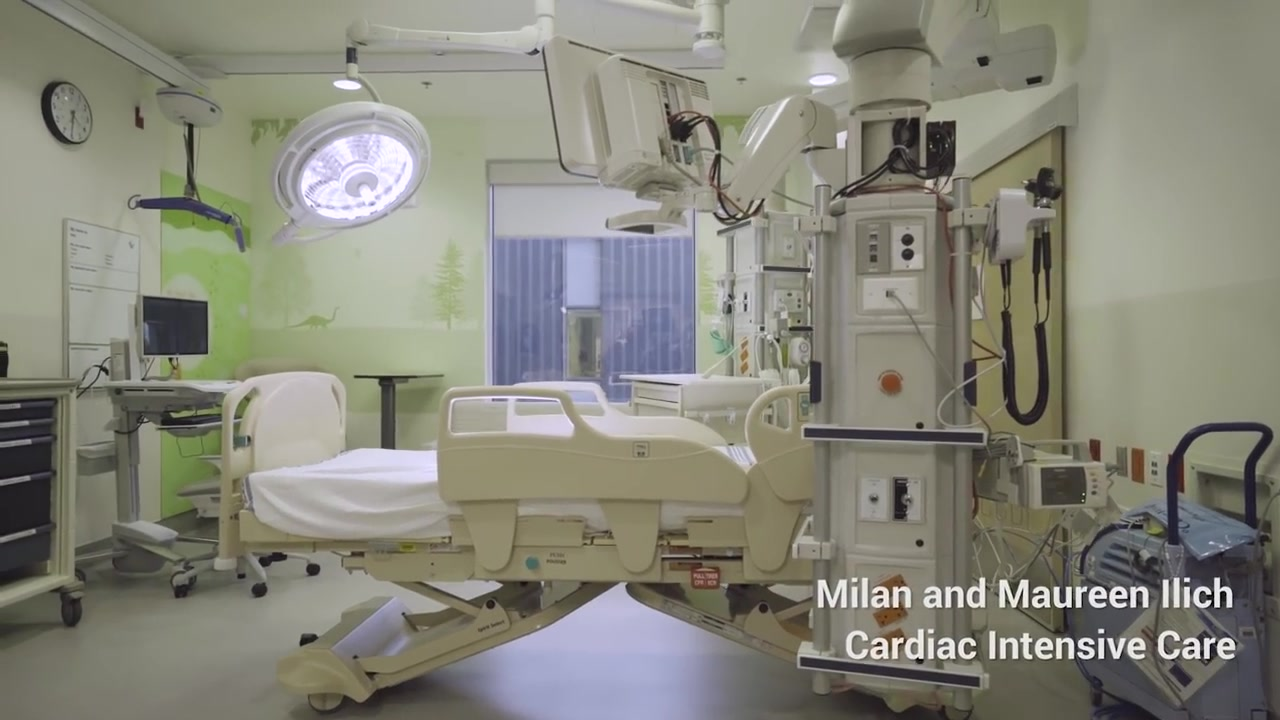bedrail: (435, 382, 749, 520), (502, 382, 643, 437)
bedside_monitor: (535, 33, 713, 234)
bedside_table: (618, 372, 766, 424)
computer: (138, 296, 211, 356)
foot_board: (220, 370, 348, 518)
hospital_bed: (222, 369, 821, 720)
keyboard: (160, 413, 221, 426)
medical_drawer: (1, 367, 84, 640)
overbed_table: (352, 372, 452, 466)
surgical_light: (270, 99, 430, 242)
